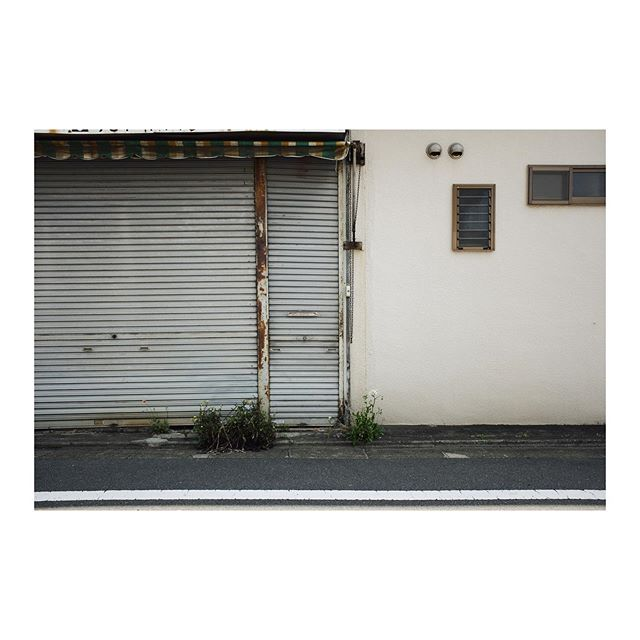building: (42, 133, 607, 434)
street: (26, 440, 609, 509)
